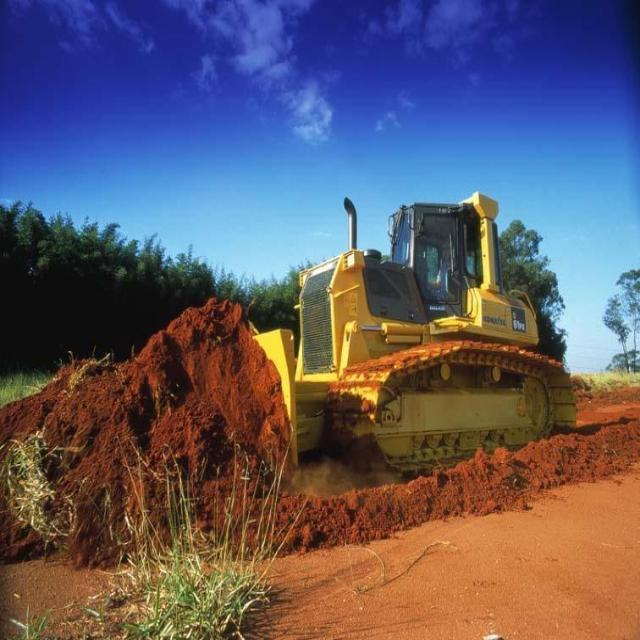buldozerpayloadergrader: (184, 158, 616, 508)
